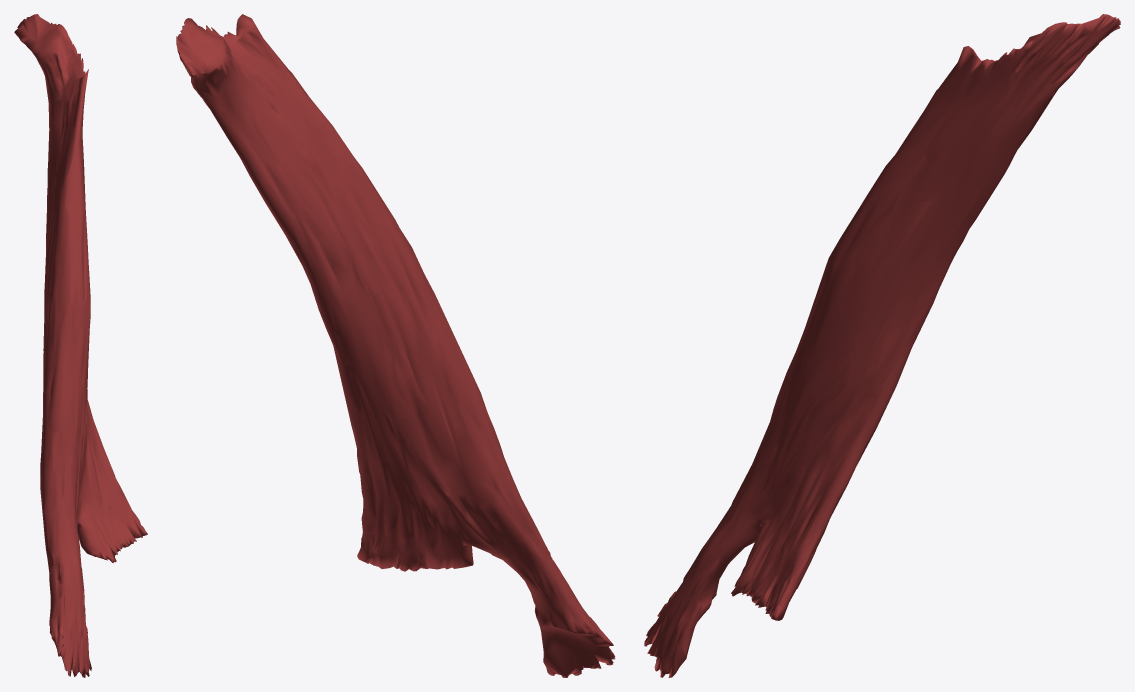
The model's file is sternocleidomastoid-muscle-l.glb.
The picture shows the model from 3 angles, left to right: view 1: azimuth 30°, elevation 25°; view 2: azimuth 150°, elevation 25°; view 3: azimuth 270°, elevation 25°; orthographic projection. The views are drawn at different scales.
Parts seen in each view (by area): view 1: Sternocleidomastoid muscle.l; view 2: Sternocleidomastoid muscle.l; view 3: Sternocleidomastoid muscle.l.
Boxes of the visible parts, <box> form: Sternocleidomastoid muscle.l: <box>14,14,147,677</box>; Sternocleidomastoid muscle.l: <box>176,14,615,677</box>; Sternocleidomastoid muscle.l: <box>644,14,1120,677</box>.
Bounding box in the file's own units: 0.0578 × 0.1937 × 0.1137.
